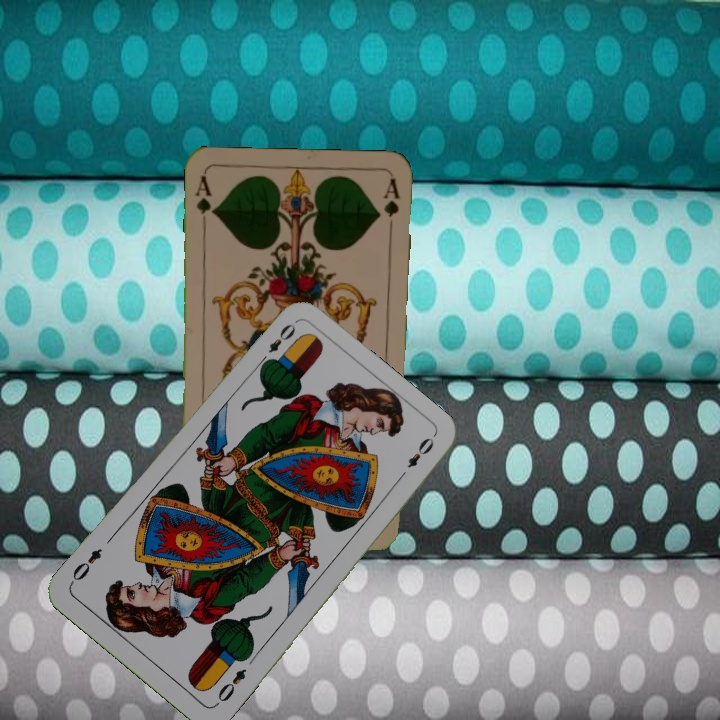EO: (255, 319, 299, 369), (212, 664, 249, 709)
GA: (191, 171, 218, 231)
